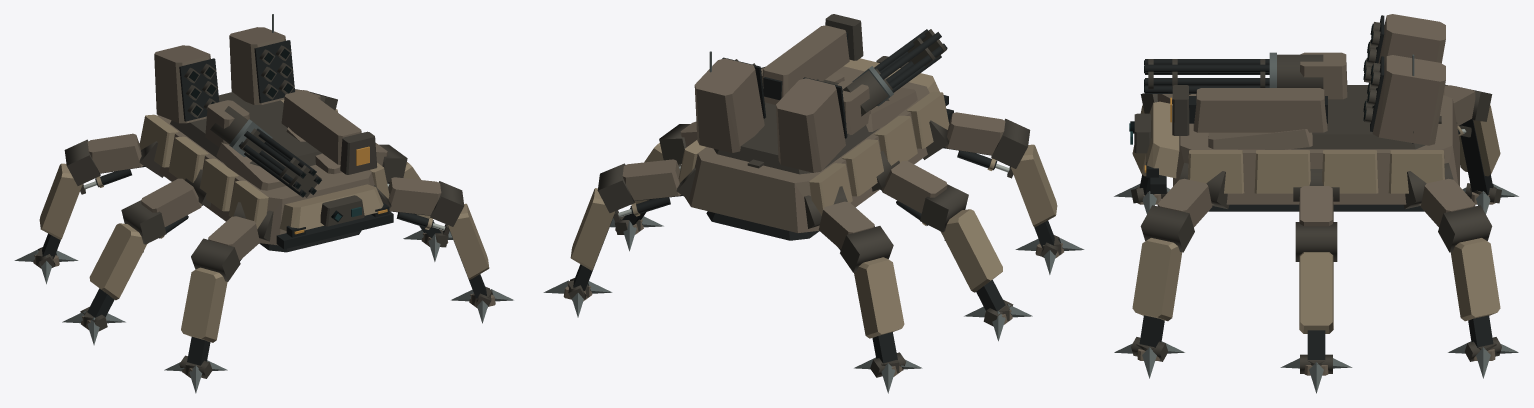
File: mx06_d0_lod2.meshopt.glb
3 views of the same model, side by side, from view 1: azimuth 30°, elevation 25°; view 2: azimuth 150°, elevation 25°; view 3: azimuth 270°, elevation 25° (orthographic). The views are drawn at different scales.
Parts seen in each view (by area): view 1: MX06_STATIC; view 2: MX06_STATIC; view 3: MX06_STATIC.
Boxes of the visible parts, x1=… form: MX06_STATIC: x1=14, y1=14, x2=513, y2=393; MX06_STATIC: x1=543, y1=14, x2=1084, y2=393; MX06_STATIC: x1=1114, y1=14, x2=1518, y2=393.
Size of the model in its own units: 6.74 by 3.8 by 5.45.
